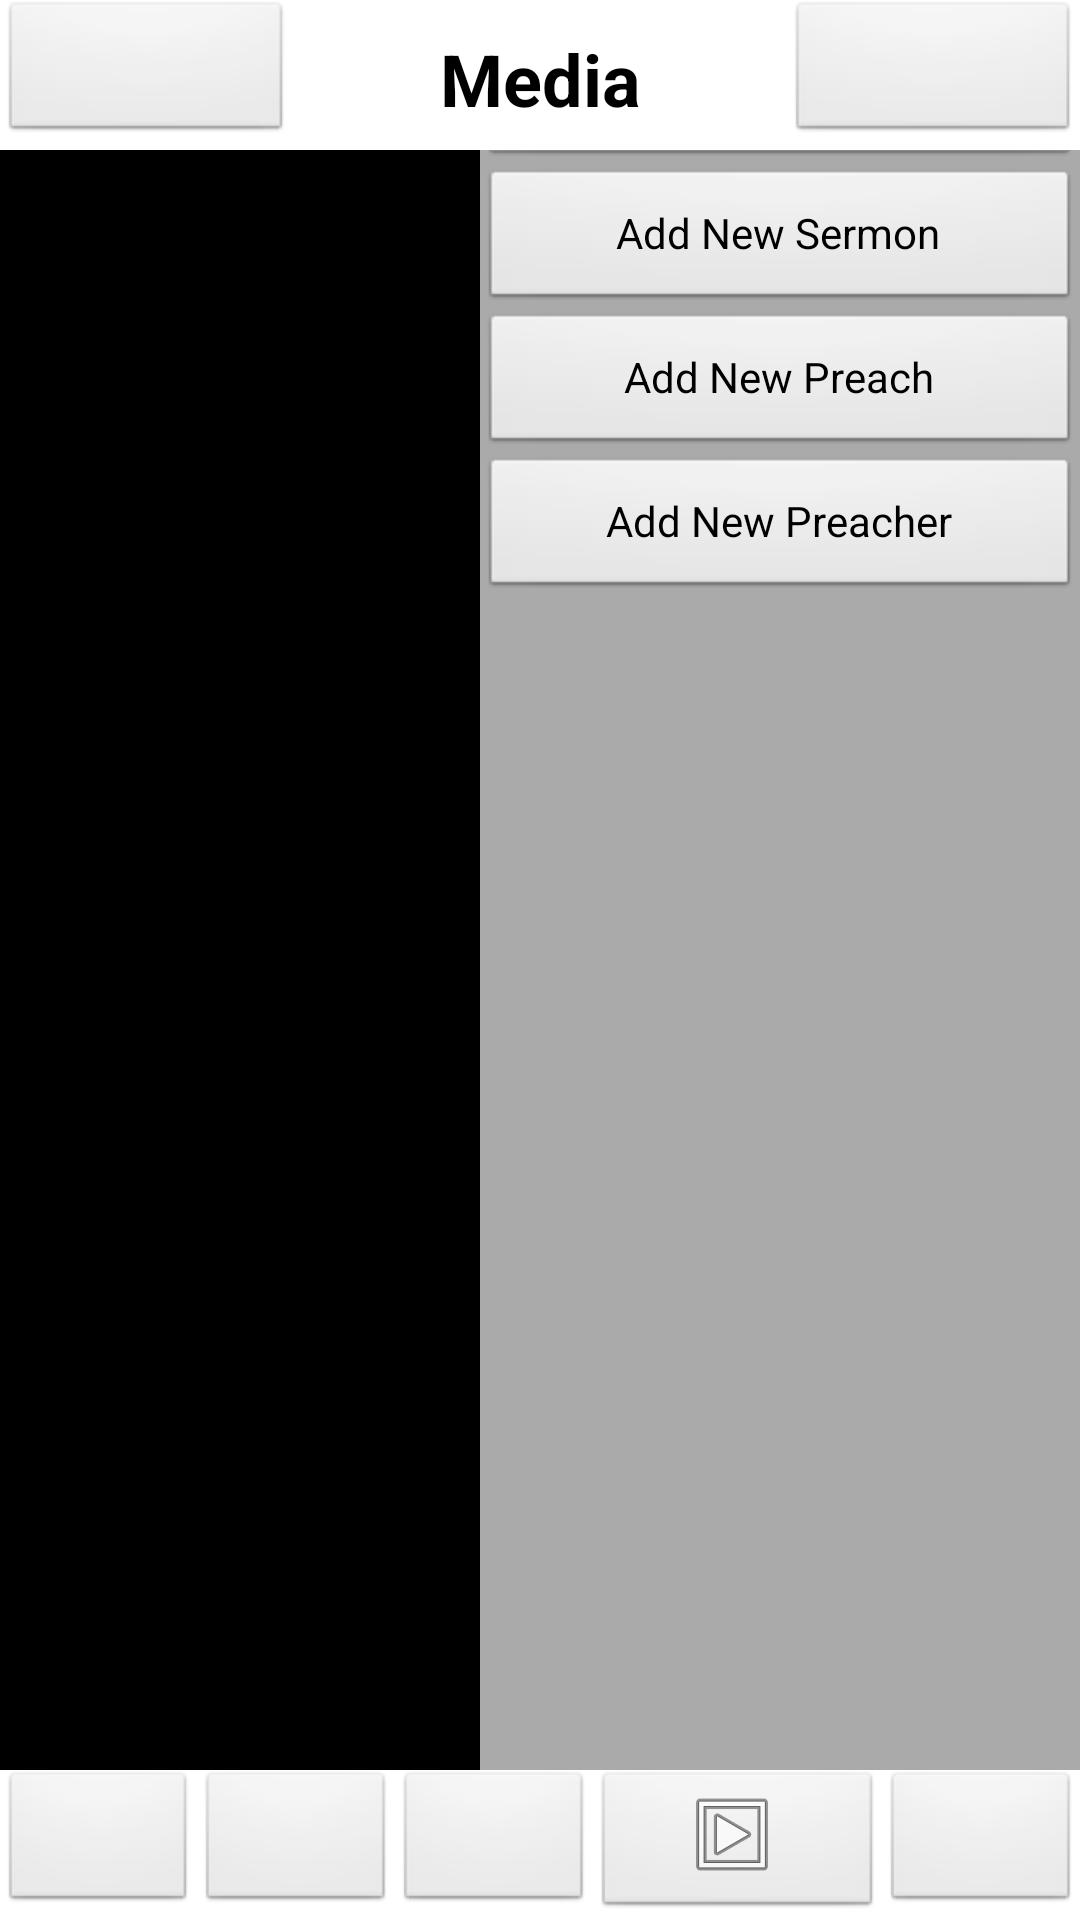

Icon click points for this 1080 x 1920 phone screenshot, format (x,y):
slideshow: (737,1840)
